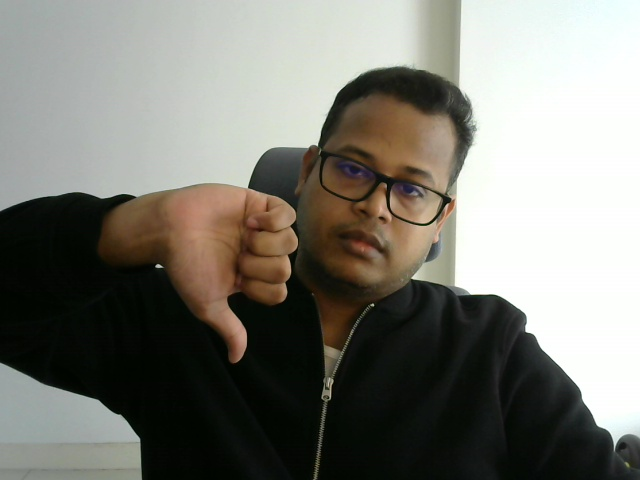ThumbsDown: (168, 183, 298, 363)
